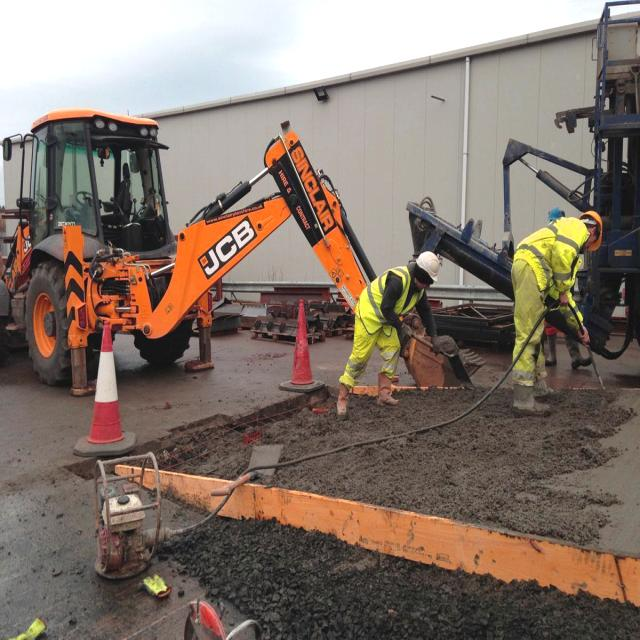hand_noglove: (579, 328, 593, 350), (558, 290, 568, 308)
head_helmet: (579, 209, 605, 253), (414, 250, 440, 284)
person: (512, 209, 604, 416), (336, 249, 442, 419)
shoes: (508, 384, 550, 416), (375, 370, 399, 409), (333, 380, 352, 420)
vest: (516, 215, 586, 286), (358, 267, 423, 329)
